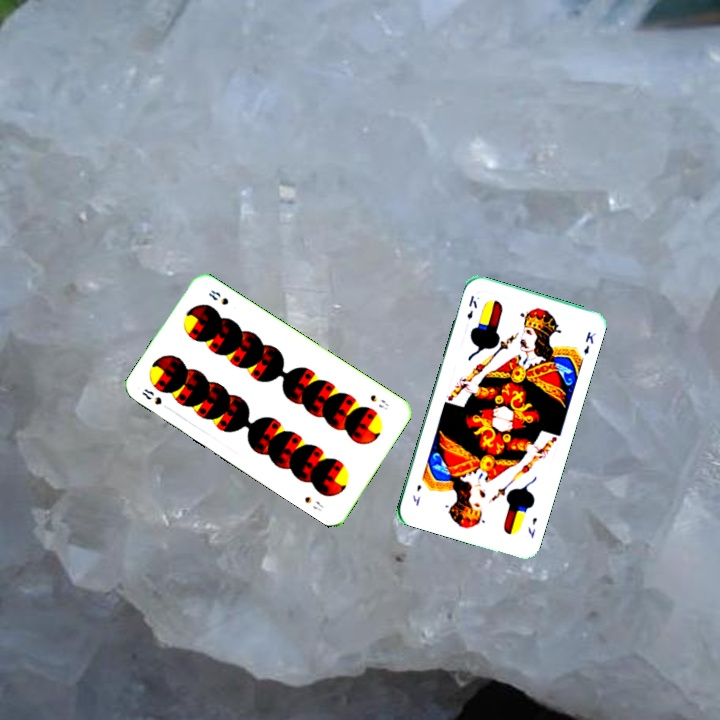EK: (463, 291, 480, 322), (524, 513, 540, 541)
S8: (138, 384, 164, 407), (366, 390, 391, 413)
